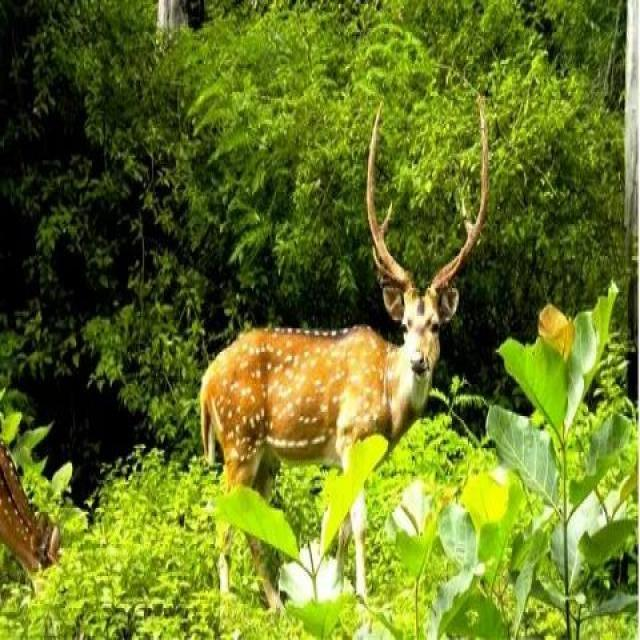deer: (180, 79, 505, 549)
